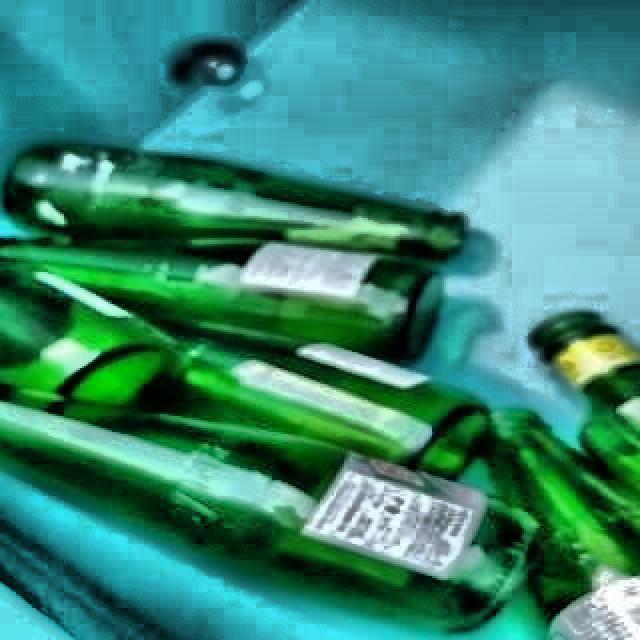glass: (0, 142, 640, 640)
